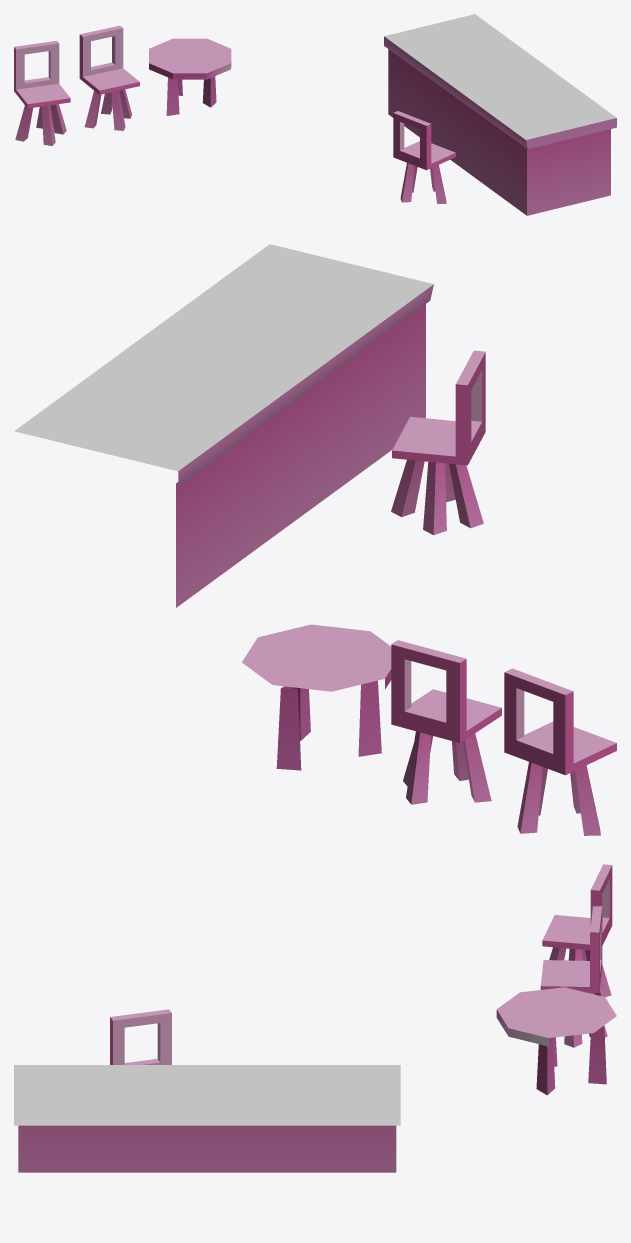
Rendered from evencare1_furniture.obj.
The picture shows the model from 3 angles, top to bottom: view 1: azimuth 30°, elevation 25°; view 2: azimuth 150°, elevation 25°; view 3: azimuth 270°, elevation 25°; orthographic projection. The views are drawn at different scales.
Visible parts, largest first — view 1: Cylinder; view 2: Cylinder; view 3: Cylinder.
Part boxes in pixels (left/top/right/bottom): Cylinder: left=14, top=14, right=616, bottom=215; Cylinder: left=14, top=244, right=616, bottom=835; Cylinder: left=14, top=864, right=616, bottom=1172.
Bounding box in the file's own units: 6.54 × 1.32 × 6.38.
